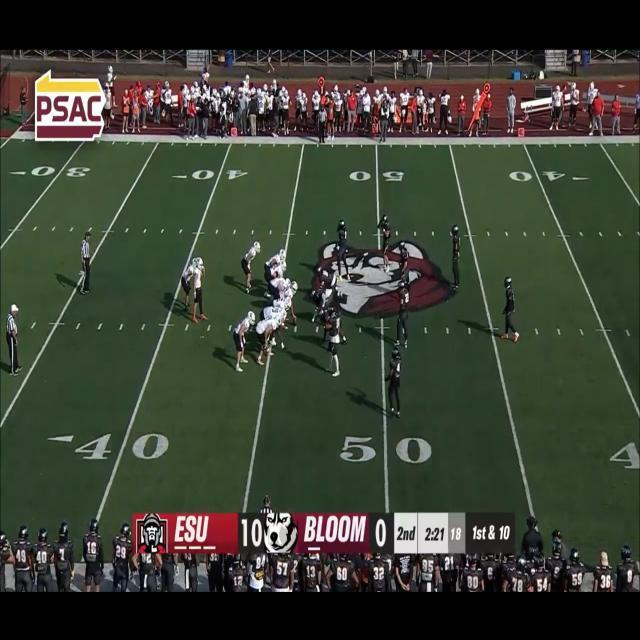football: (291, 314, 299, 328)
